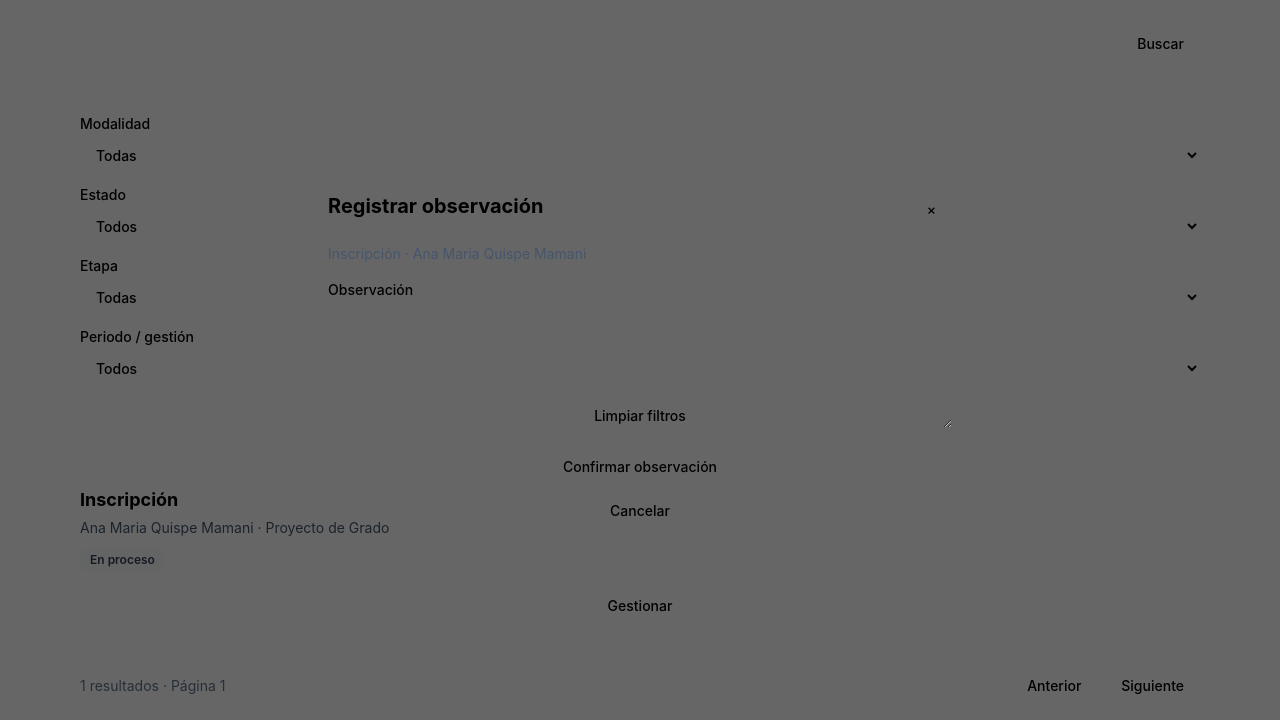
Test: SeguimientoPage › mantiene el diálogo y muestra el error backend de una acción
Earlier steps of the test are not shown.
(page scrolled)
Type "Revisar" into the text box labelled "Observación".
click(640, 366); type("Revisar")  # box [328, 304, 952, 428]
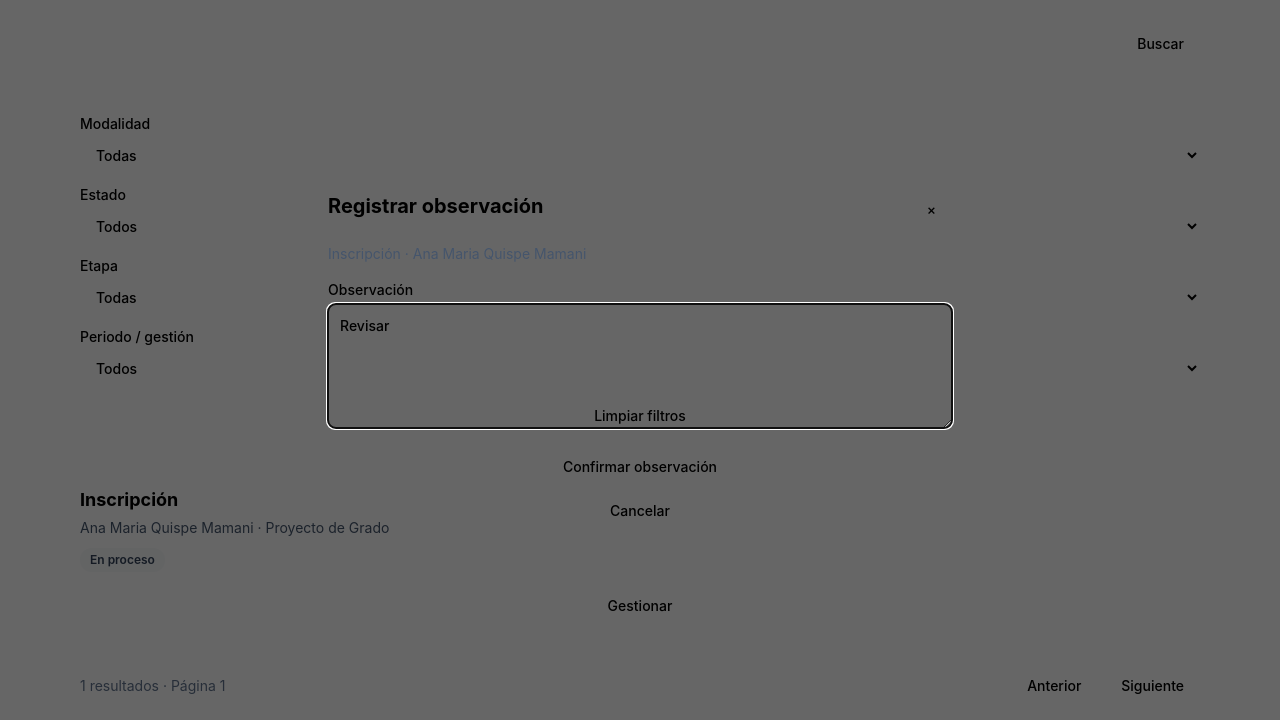
Click the button "Confirmar observación".
click(640, 466)  # box [328, 448, 952, 484]
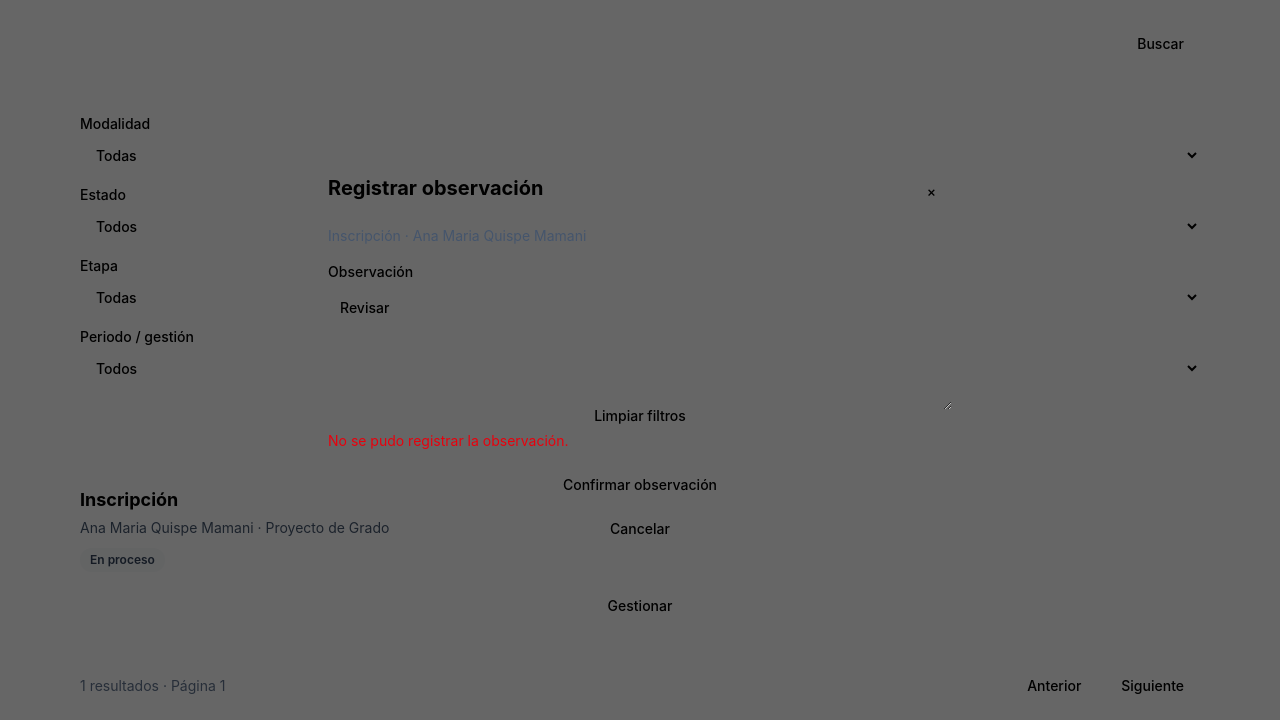
Expected: the dialog "Registrar observación" is shown
Expected: the message reads "No se pudo registrar la observación.", [328, 432, 569, 448]
